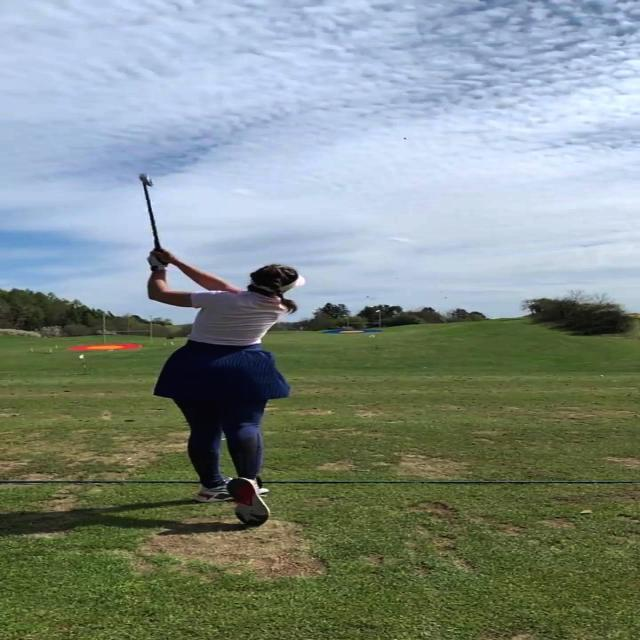golf club-handle: (140, 173, 160, 249)
golf club-head: (140, 173, 152, 186)
